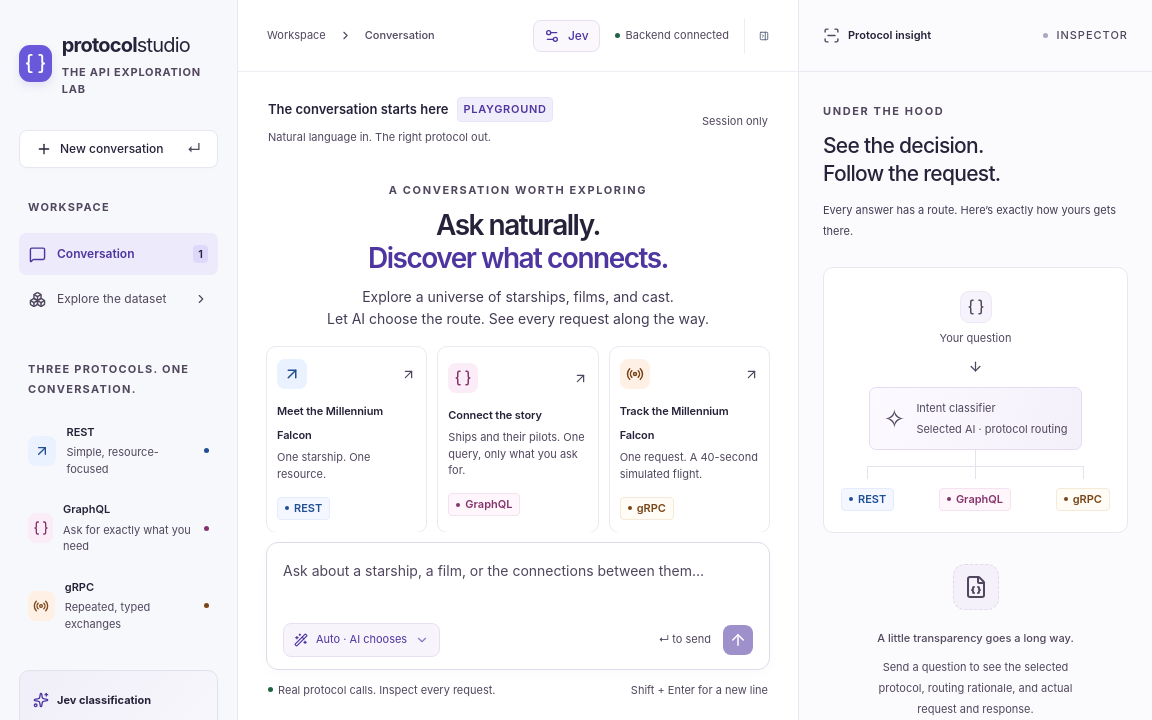
blocks unavailable jev without switching providers
Expected: the text "Backend connected" is shown, [615, 27, 729, 44]
What coordinates should you click on to do the following:
click the text "Meet the Millennium Falcon"
I would click on:
 (330, 411)
Its box is [277, 404, 383, 442].
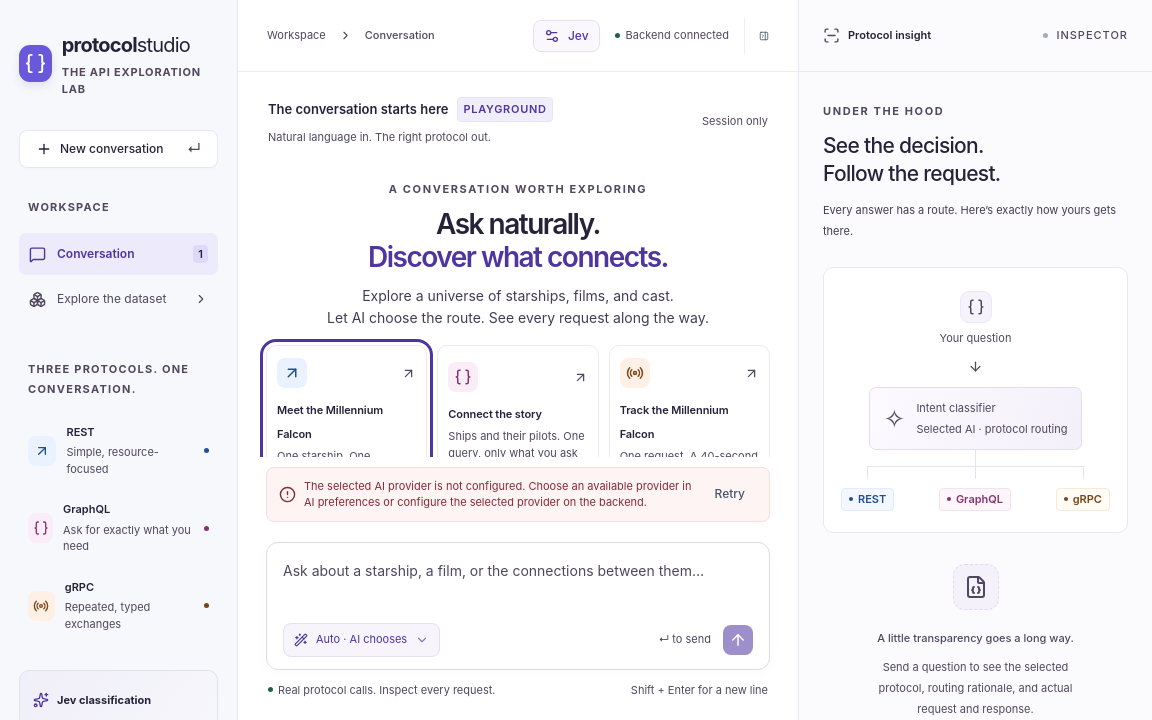
Expected: the message shows "selected AI provider is not configured", [304, 479, 692, 509]
